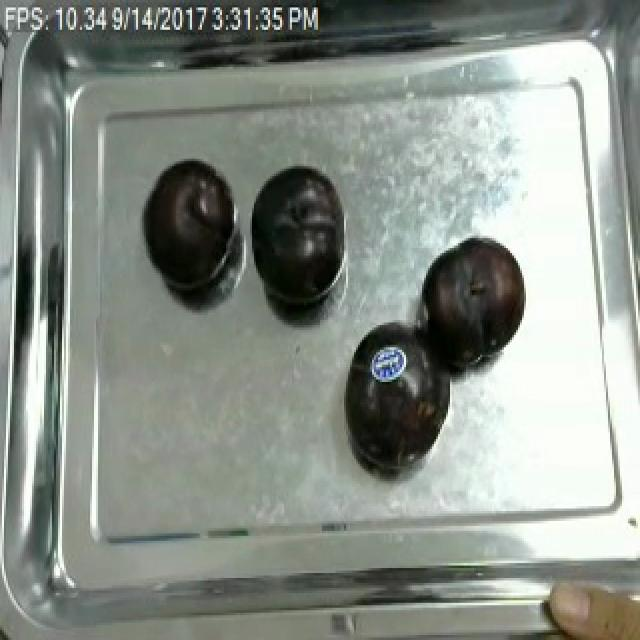Fruit: (338, 315, 454, 469), (414, 233, 530, 375), (246, 158, 348, 318), (140, 156, 238, 295), (540, 565, 640, 640)
